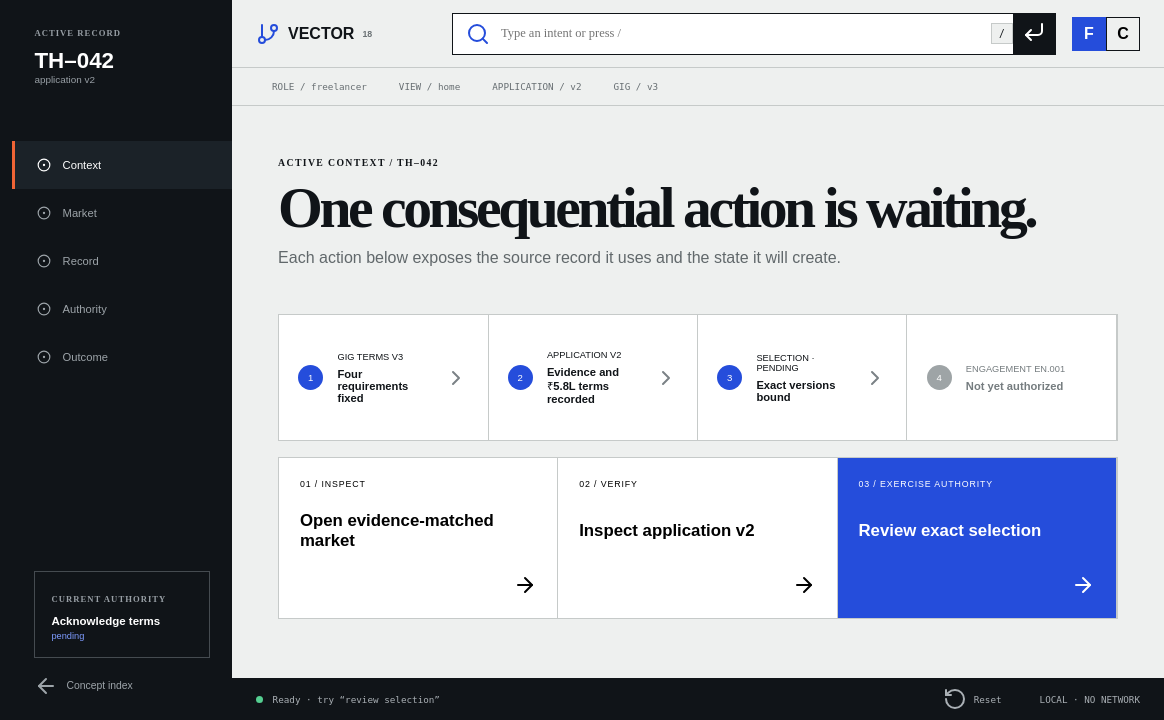
Test: hybrid interaction accessibility › focuses Vector command input with the visible slash shortcut and returns safe suggestions
Step 1. Press /
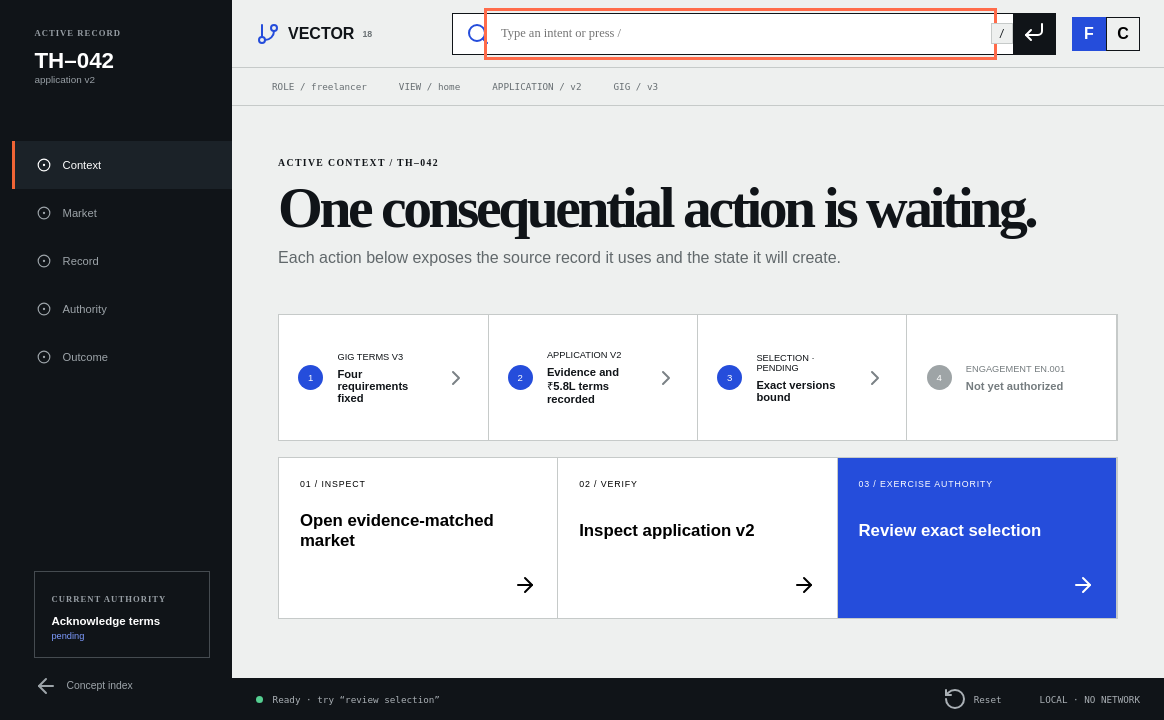
Step 2. Type "erase records" into the field named "Vector command" → (740, 34), box [490,14,991,54]
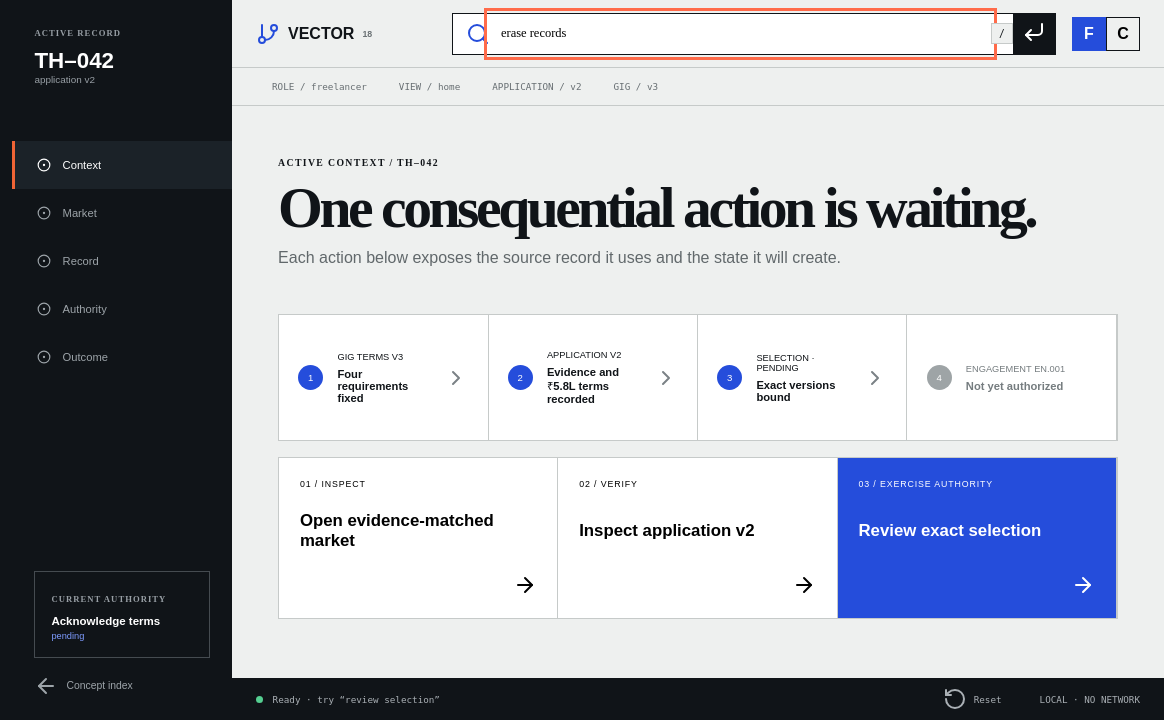
Step 3. Submit the form named "Vector command", box [452,12,1056,54]
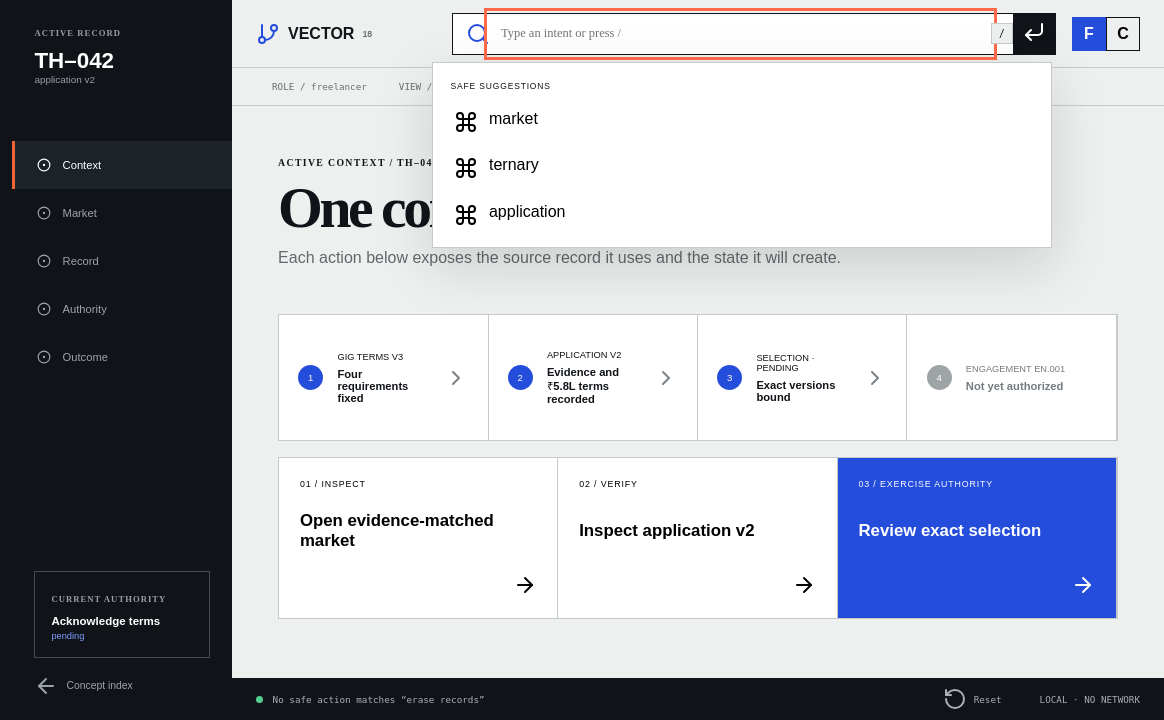
Expected: the text "SAFE SUGGESTIONS" is shown, [451,81,551,91]
